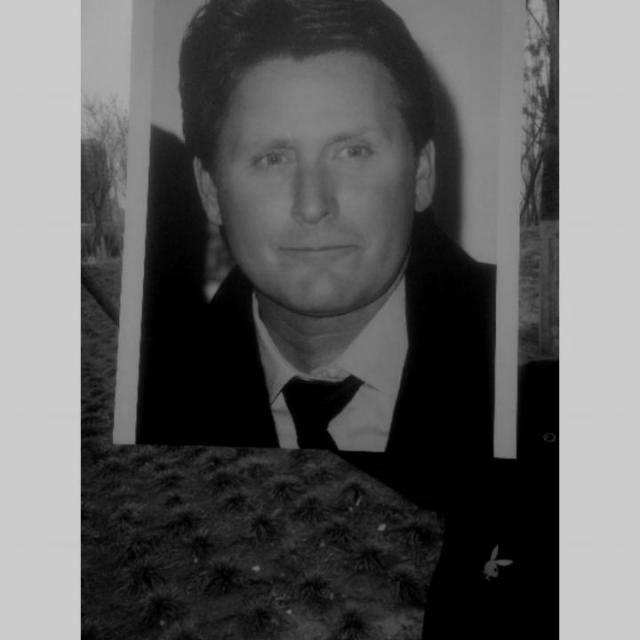fake: (111, 0, 530, 459)
